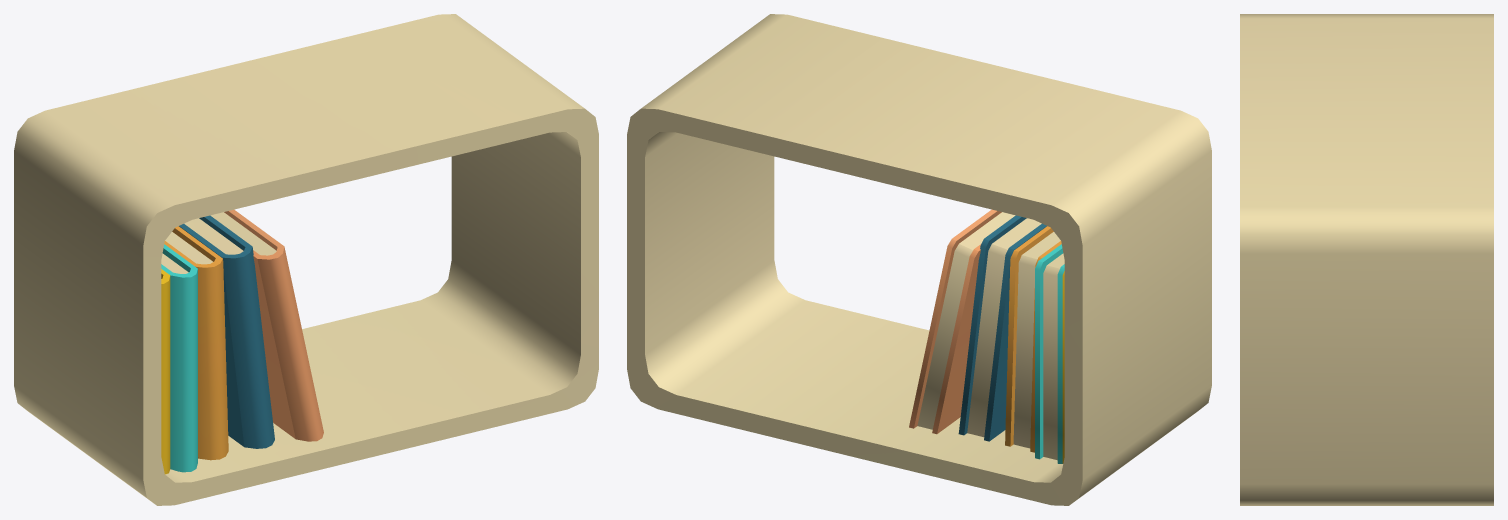
Rendered from Modular_bookshelf_part_10.FBX.
The picture shows the model from 3 angles, left to right: view 1: azimuth 30°, elevation 25°; view 2: azimuth 150°, elevation 25°; view 3: azimuth 270°, elevation 25°; orthographic projection.
Parts seen in each view (by area): view 1: Modular_bookshelf_part_10; view 2: Modular_bookshelf_part_10; view 3: Modular_bookshelf_part_10.
Part boxes in pixels (x1,y1,x2,y2): Modular_bookshelf_part_10: (14, 14, 598, 505); Modular_bookshelf_part_10: (627, 14, 1211, 505); Modular_bookshelf_part_10: (1240, 14, 1493, 505).
Size of the model in its own units: 46.44 by 29.27 by 22.84.
1 material, 1 textured.
